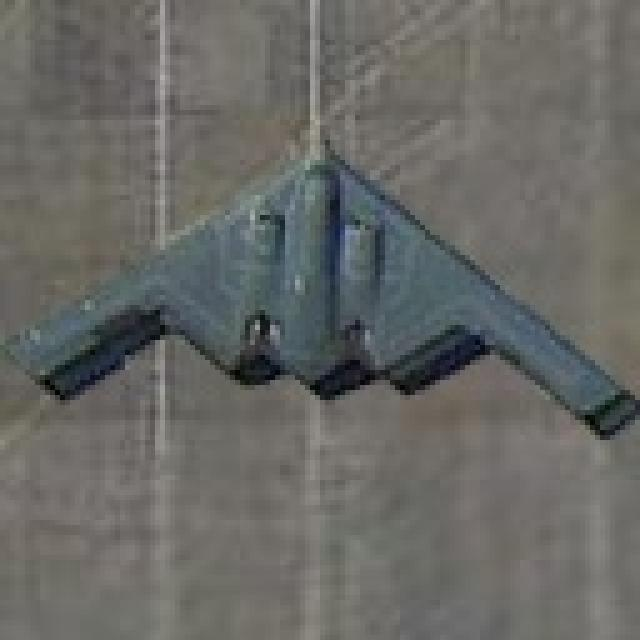B-2_TopDown: (0, 120, 635, 445)
